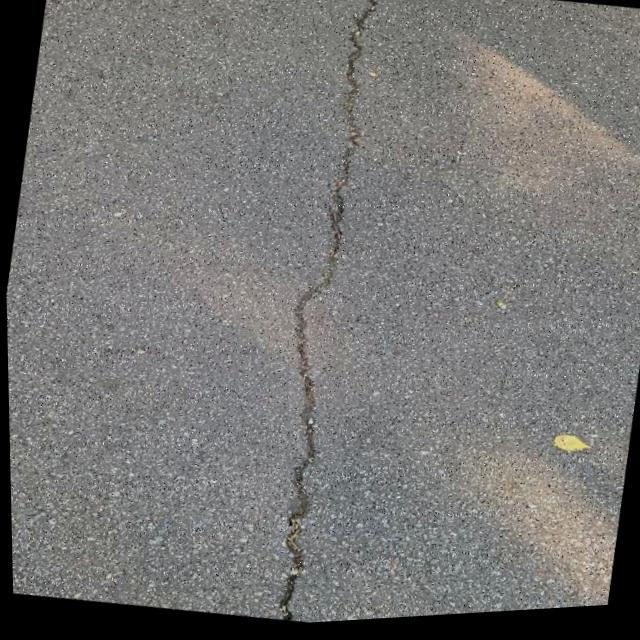Crack: (220, 0, 414, 630)
